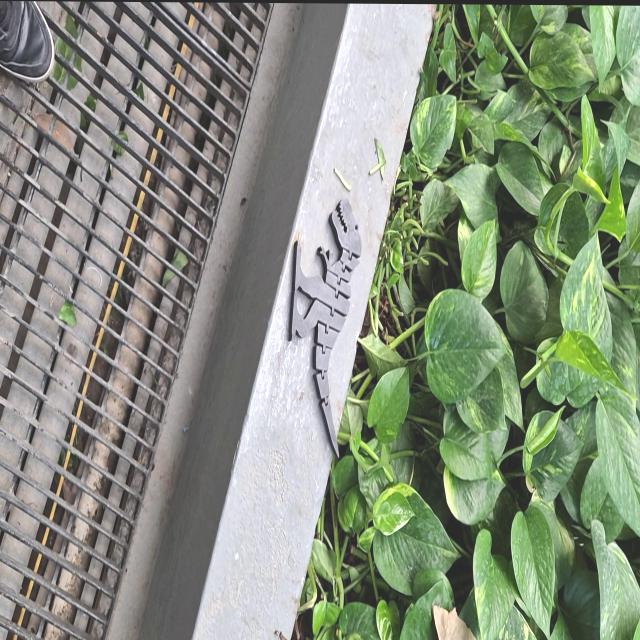dino: (288, 195, 363, 459)
